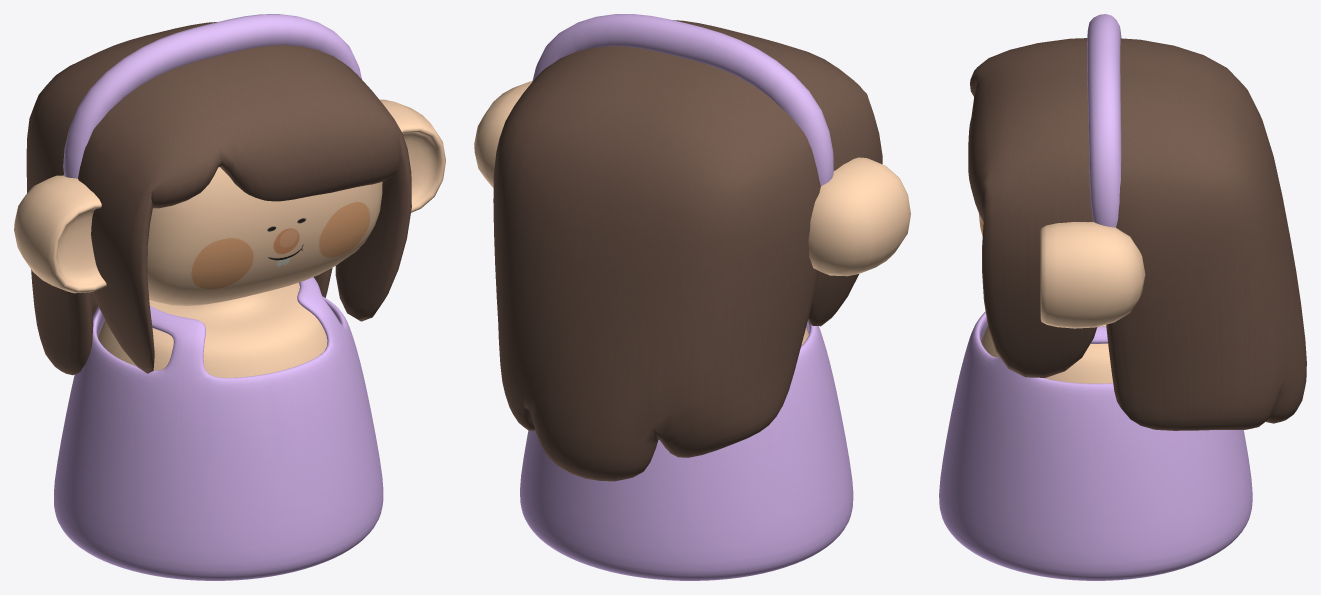
Rendered from girl.fbx.
3 views of the same model, side by side, from view 1: azimuth 30°, elevation 25°; view 2: azimuth 150°, elevation 25°; view 3: azimuth 270°, elevation 25° (orthographic). The views are drawn at different scales.
Parts seen in each view (by area): view 1: woman_combined; view 2: woman_combined; view 3: woman_combined.
Boxes of the visible parts, x1=… form: woman_combined: x1=14, y1=14, x2=445, y2=580; woman_combined: x1=474, y1=14, x2=910, y2=580; woman_combined: x1=939, y1=14, x2=1306, y2=580.
Bounding box in the file's own units: 87.5 × 102 × 70.8.
Materials: 5 (5 with a texture image).
